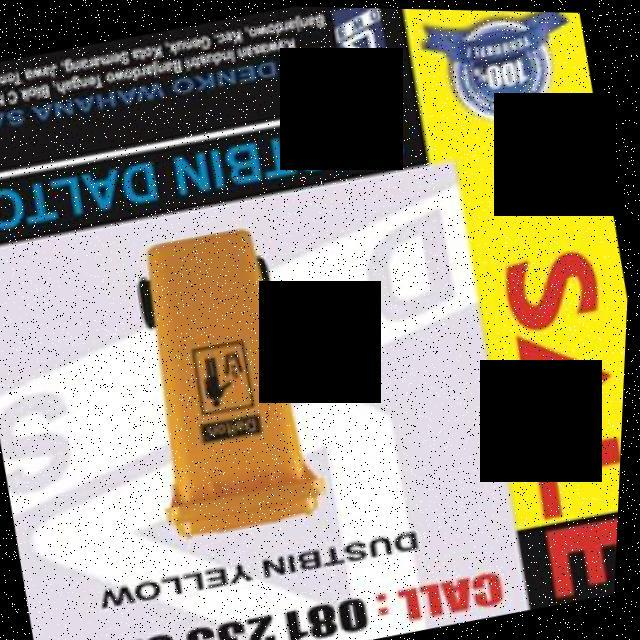bin: (104, 201, 347, 553)
